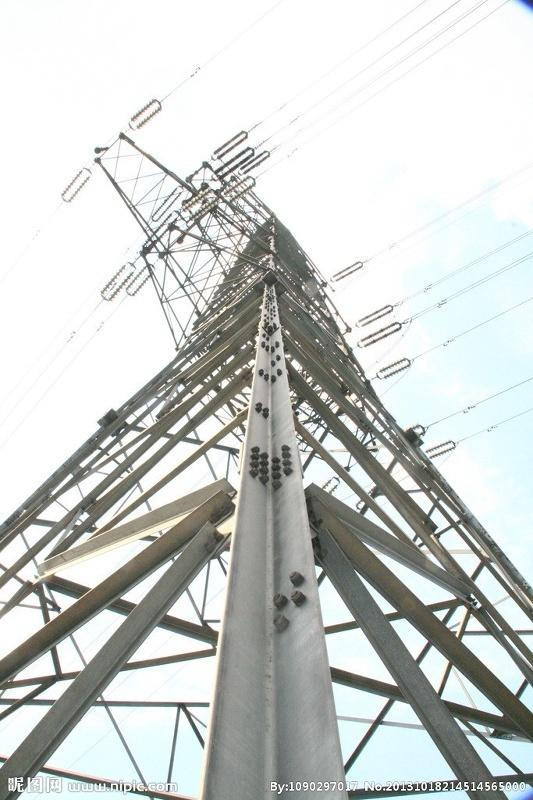power_tower: (30, 184, 515, 695)
